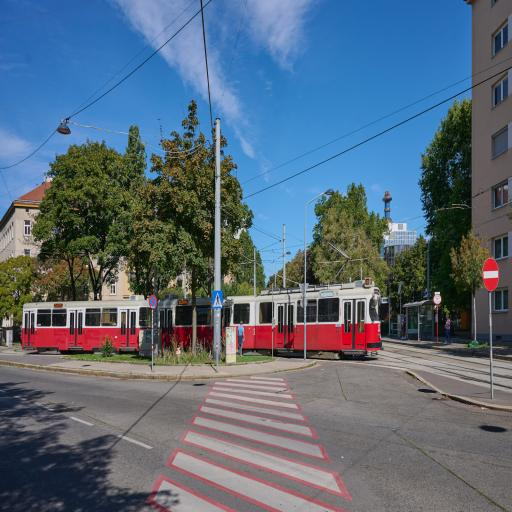E2-Tram: (22, 276, 382, 354)
